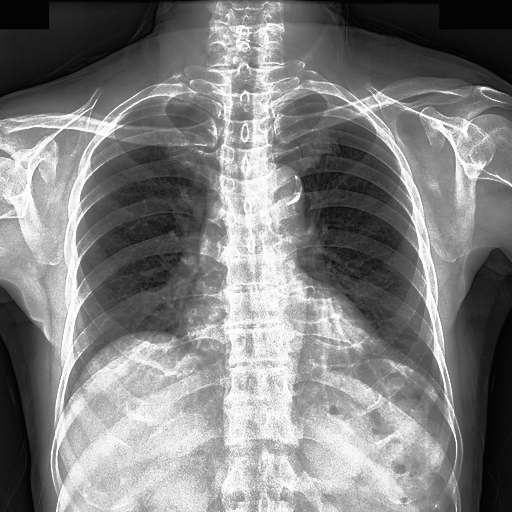Calcification: (157, 93, 198, 107)
Consolidation: (197, 160, 304, 265), (256, 163, 303, 203)
Nodule/Mass: (177, 298, 385, 363)
Pleural effusion: (149, 95, 189, 107)
